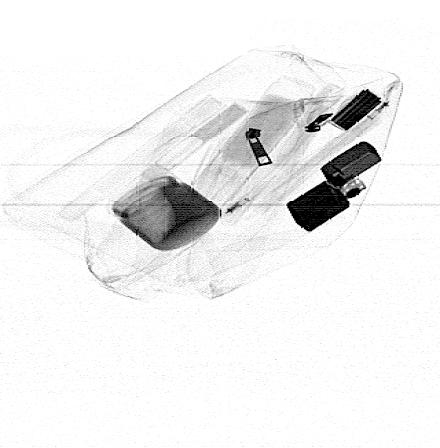Lighter: (285, 140, 383, 232)
